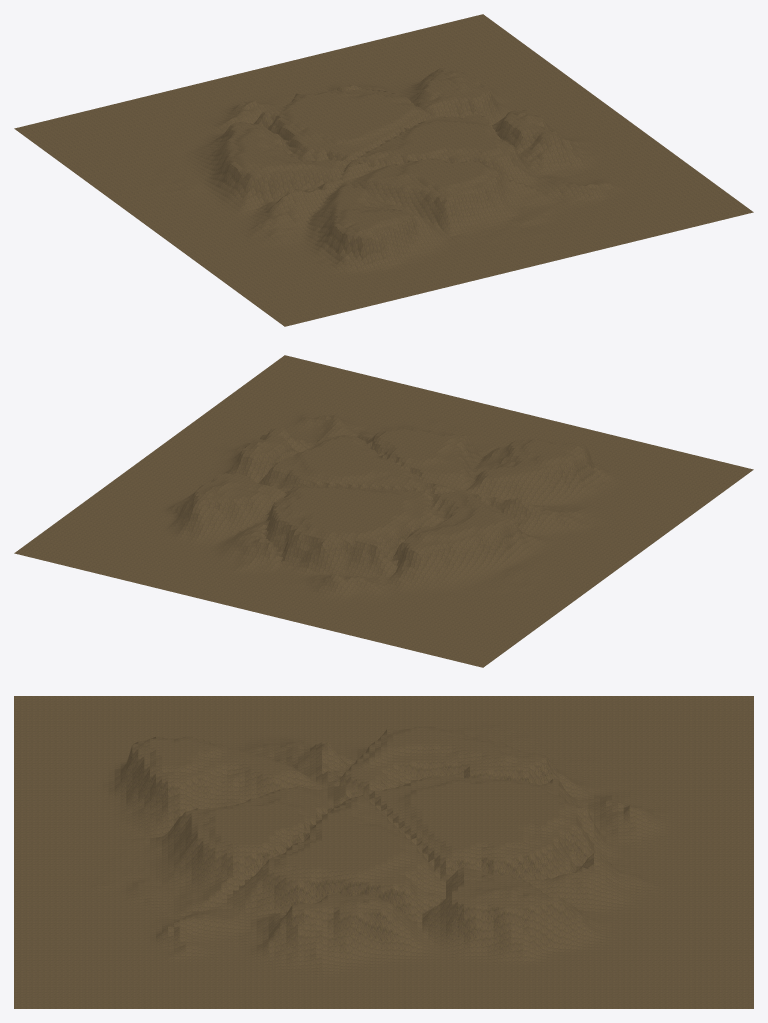
File: ilha.glb
3 renders of one model, top to bottom at view 1: azimuth 30°, elevation 25°; view 2: azimuth 150°, elevation 25°; view 3: azimuth 270°, elevation 25°, orthographic. The views are drawn at different scales.
Parts seen in each view (by area): view 1: Landscape.001; view 2: Landscape.001; view 3: Landscape.001.
Part boxes in pixels (x1=…): Landscape.001: x1=14, y1=14, x2=753, y2=326; Landscape.001: x1=14, y1=355, x2=753, y2=667; Landscape.001: x1=14, y1=696, x2=753, y2=1008.
Size of the model in its own units: 4.16 by 0.25 by 4.16.
1 material, 1 textured.
